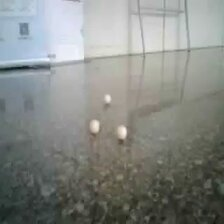tennis: (202, 118, 224, 150), (118, 76, 133, 99), (43, 65, 58, 83), (131, 57, 143, 72)
